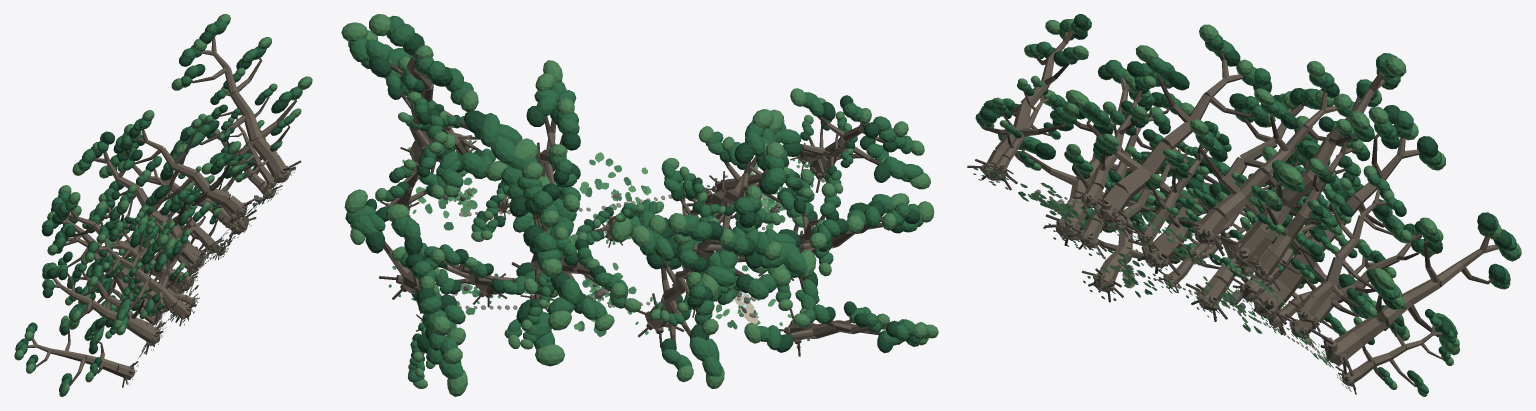
The model's file is saihoji.glb.
The picture shows the model from 3 angles, left to right: view 1: azimuth 30°, elevation 25°; view 2: azimuth 150°, elevation 25°; view 3: azimuth 270°, elevation 25°; orthographic projection. The views are drawn at different scales.
Parts seen in each view (by area): view 1: n437, n387, n440, n349, n336, n97, n390, n233, n352, n441, n100, n19 (+42 smaller); view 2: n440, n197, n100, n22, n300, n352, n139, n390, n198, n441, n23, n101 (+51 smaller); view 3: n297, n19, n387, n437, n97, n194, n300, n476, n450, n349, n336, n32 (+56 smaller).
Part boxes in pixels (<box>): n437: <box>202,39,291,182</box>; n387: <box>136,130,247,219</box>; n440: <box>180,19,302,164</box>; n349: <box>98,239,191,319</box>; n336: <box>53,277,160,346</box>; n97: <box>95,151,205,268</box>; n390: <box>121,118,235,210</box>; n233: <box>27,337,134,380</box>; n352: <box>85,223,172,320</box>; n441: <box>171,14,312,174</box>; n100: <box>78,131,189,221</box>; n19: <box>132,162,248,234</box>; n440: <box>349,15,522,178</box>; n197: <box>629,210,807,299</box>; n100: <box>500,156,580,350</box>; n22: <box>345,205,465,379</box>; n300: <box>691,121,786,287</box>; n352: <box>775,92,923,182</box>; n139: <box>646,225,722,376</box>; n390: <box>534,81,580,240</box>; n198: <box>610,213,816,286</box>; n441: <box>341,14,538,181</box>; n23: <box>344,189,467,396</box>; n101: <box>518,138,571,366</box>; n297: <box>1094,60,1243,223</box>; n19: <box>1323,236,1499,365</box>; n387: <box>1192,92,1337,244</box>; n437: <box>1232,72,1384,268</box>; n97: <box>1253,138,1419,318</box>; n194: <box>1141,104,1303,268</box>; n300: <box>1082,34,1270,206</box>; n476: <box>1296,191,1386,322</box>; n450: <box>1252,141,1353,281</box>; n349: <box>980,30,1073,180</box>; n336: <box>1050,77,1130,240</box>; n32: <box>1289,233,1422,338</box>.
Size of the model in its own units: 103 by 72.96 by 94.2.
